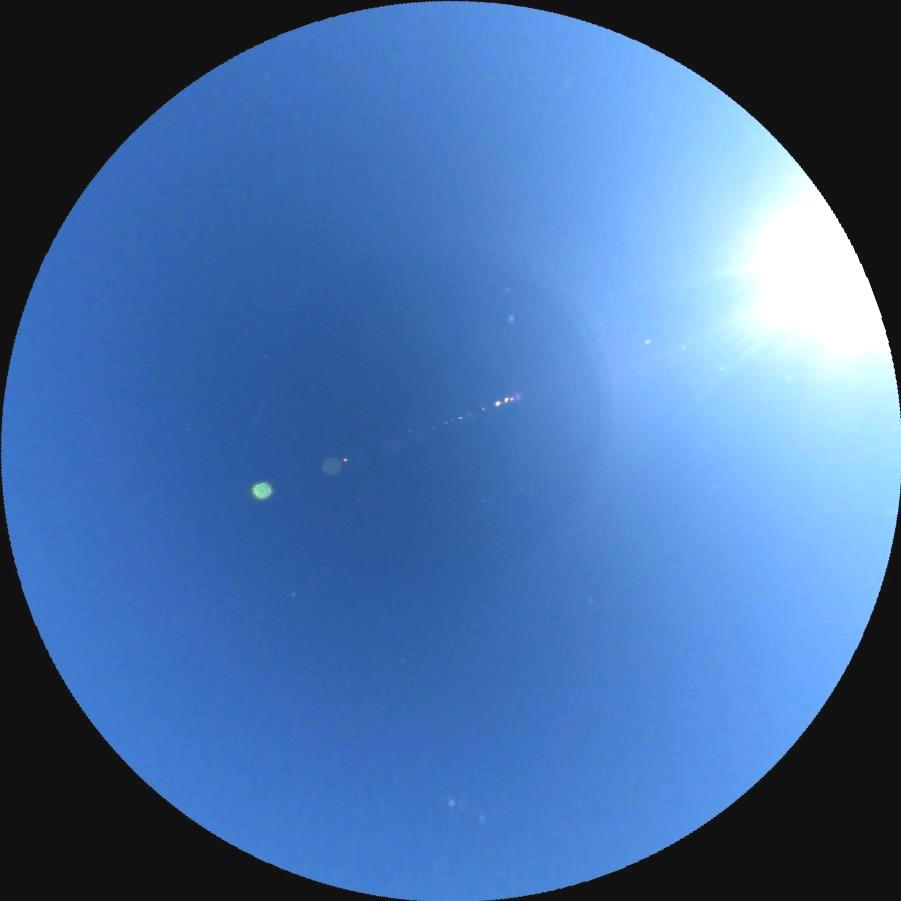contrail young: (244, 396, 268, 438)
sun: (761, 199, 894, 371)
